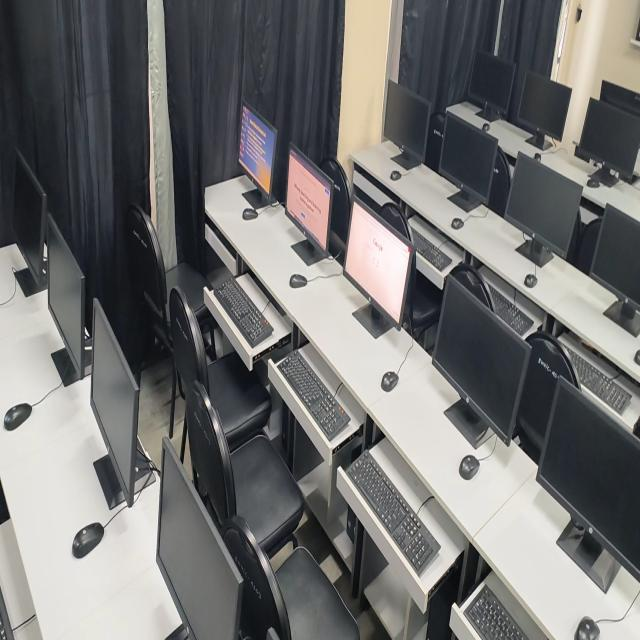Chair: (185, 381, 304, 551), (128, 204, 206, 439), (223, 516, 359, 639), (169, 286, 270, 449), (512, 330, 578, 462), (320, 158, 351, 264), (449, 263, 499, 314), (487, 146, 511, 217), (575, 216, 602, 275)
Cpu: (426, 569, 460, 639), (346, 505, 356, 541)
Keyboard: (346, 451, 440, 575), (278, 351, 350, 441), (565, 347, 631, 415), (214, 279, 272, 347), (464, 585, 528, 639), (486, 283, 534, 335), (411, 227, 452, 270)
Monitor: (536, 379, 640, 593), (156, 440, 243, 639), (432, 279, 531, 446), (90, 299, 159, 508), (504, 153, 582, 267), (345, 203, 410, 323), (48, 213, 89, 385), (438, 110, 498, 212), (285, 143, 334, 257), (589, 203, 640, 311), (508, 71, 571, 149), (13, 149, 47, 293), (576, 99, 640, 175), (239, 101, 277, 203), (384, 81, 431, 161), (465, 51, 514, 121), (600, 80, 640, 116)
Mouse: (73, 523, 104, 558), (4, 404, 32, 430), (574, 616, 600, 639), (459, 455, 480, 480), (381, 371, 399, 392), (242, 208, 258, 220), (524, 274, 537, 287), (587, 175, 600, 188), (451, 217, 464, 229), (390, 171, 401, 180), (482, 123, 490, 132), (534, 153, 541, 161)
